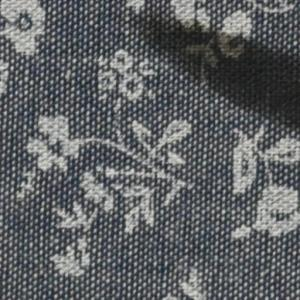Stain: (118, 1, 300, 147)
